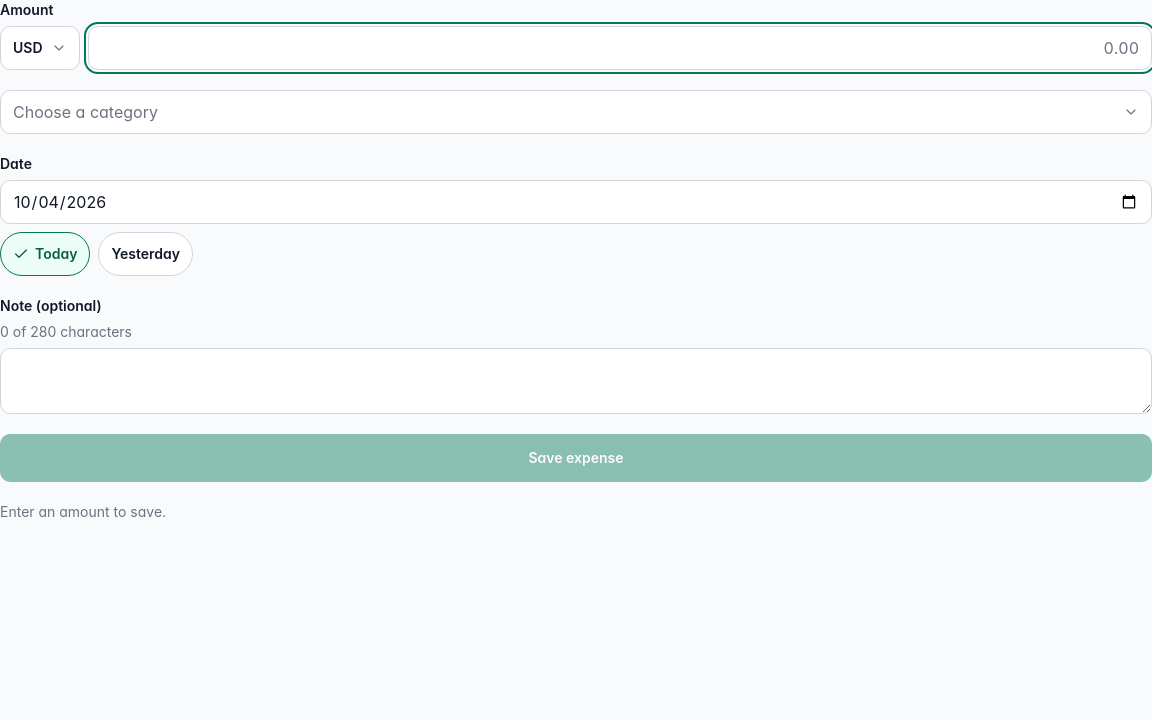
Test: TransactionForm (FR-06, FR-07, FR-24) › re-reads the digits when the currency changes (12.50 is not a JPY amount)
In the field labelled "Amount": (620, 48) [88,26,1151,70], type "12.50"
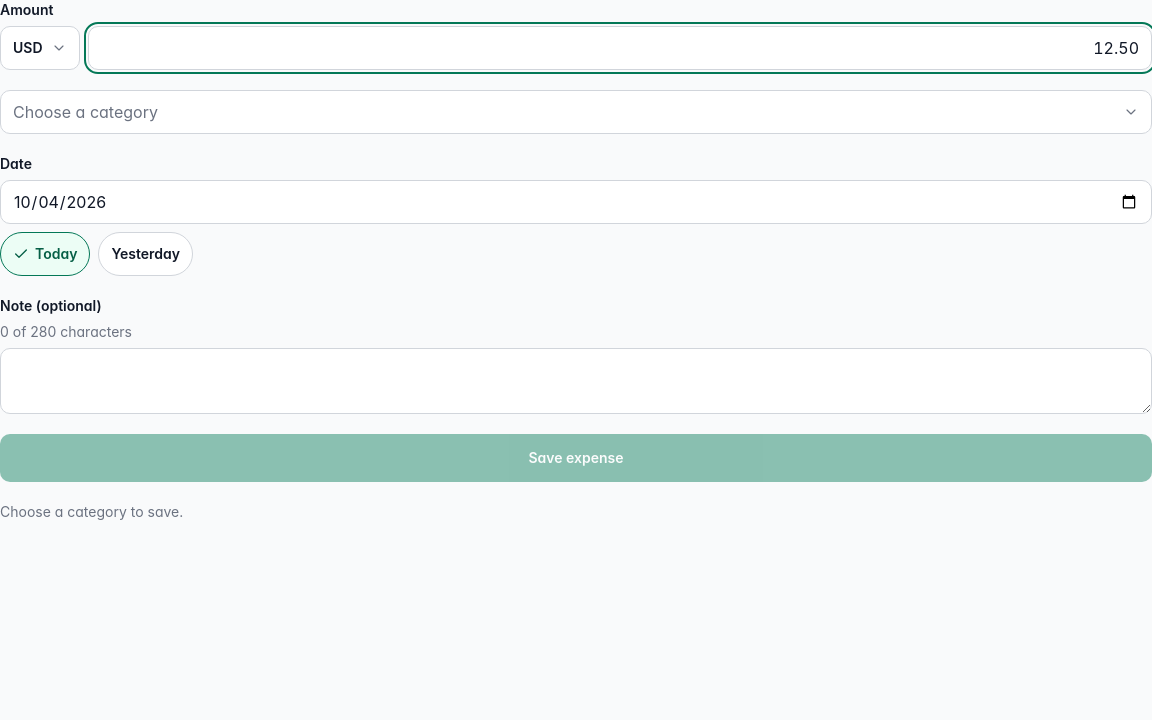
Click the button with aria-label "Currency: USD": (40, 48) [0,26,80,70]
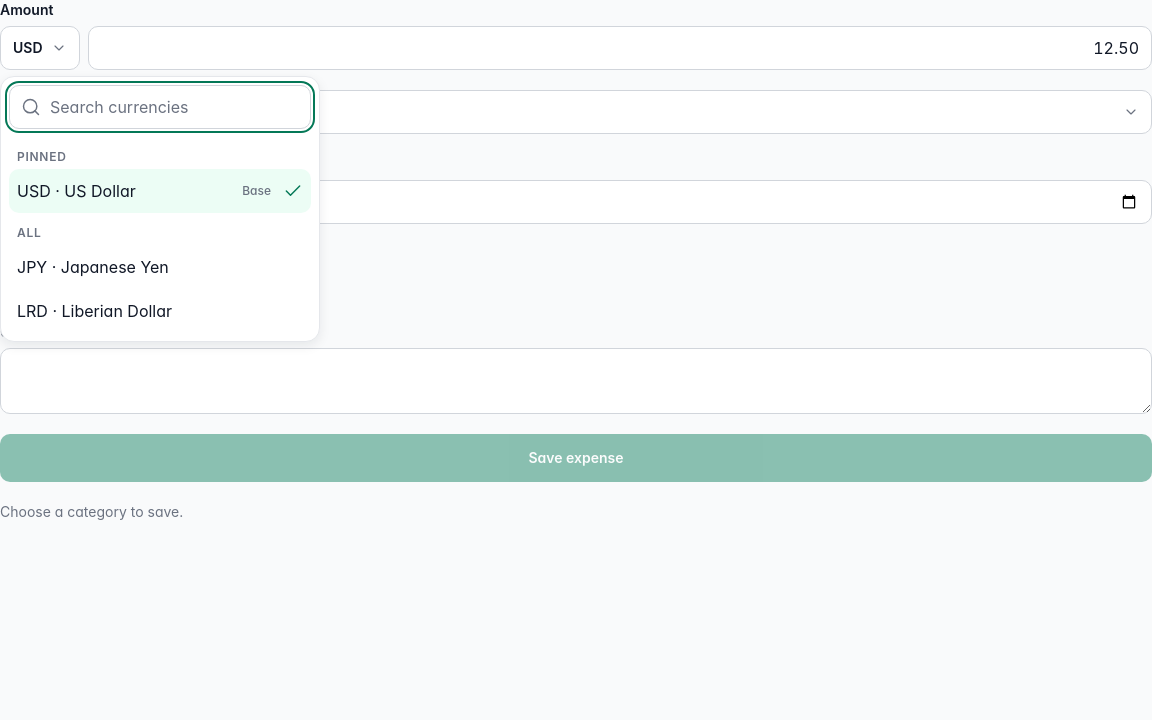
Click the button "JPY · Japanese Yen": (160, 267) [9,245,311,289]
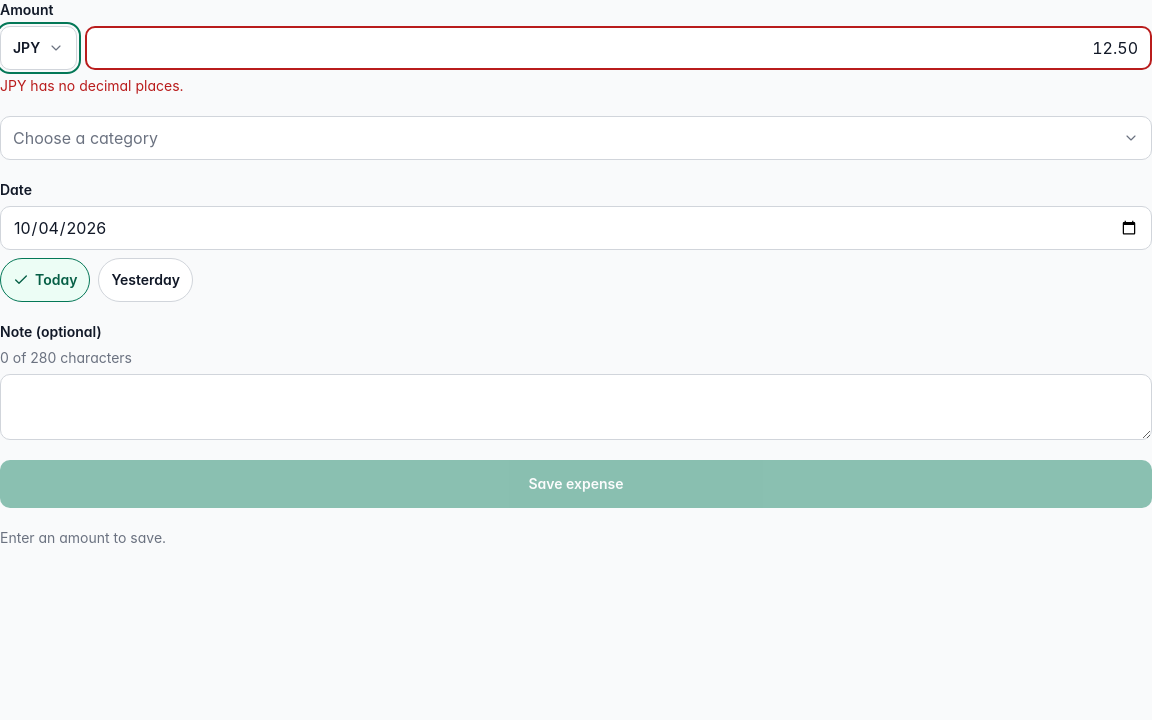
Now the text "JPY has no decimal places." is shown, box [0,77,184,94]
